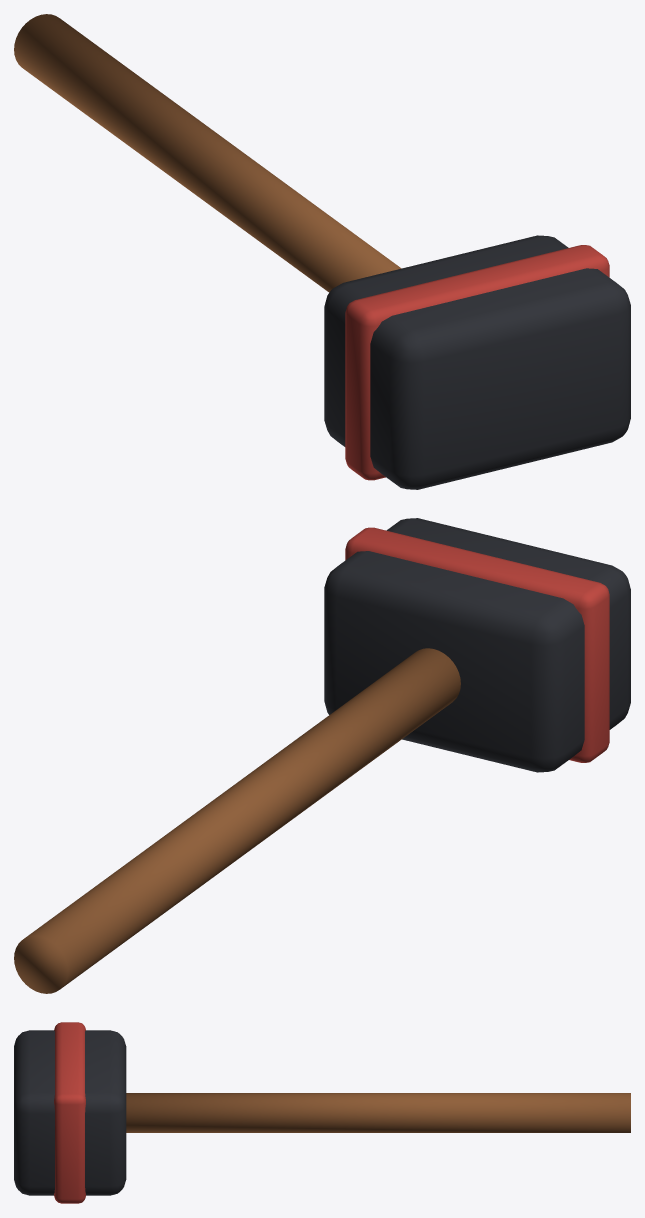
The model's file is w_hammer.glb.
The picture shows the model from 3 angles, top to bottom: view 1: azimuth 30°, elevation 25°; view 2: azimuth 150°, elevation 25°; view 3: azimuth 270°, elevation 25°; orthographic projection. The views are drawn at different scales.
Parts seen in each view (by area): view 1: weapon; view 2: weapon; view 3: weapon.
Part boxes in pixels (left/top/right/bottom): weapon: left=14, top=14, right=630, bottom=489; weapon: left=14, top=518, right=630, bottom=993; weapon: left=14, top=1022, right=630, bottom=1203.
Bounding box in the file's own units: 0.23 × 0.15 × 0.77.
